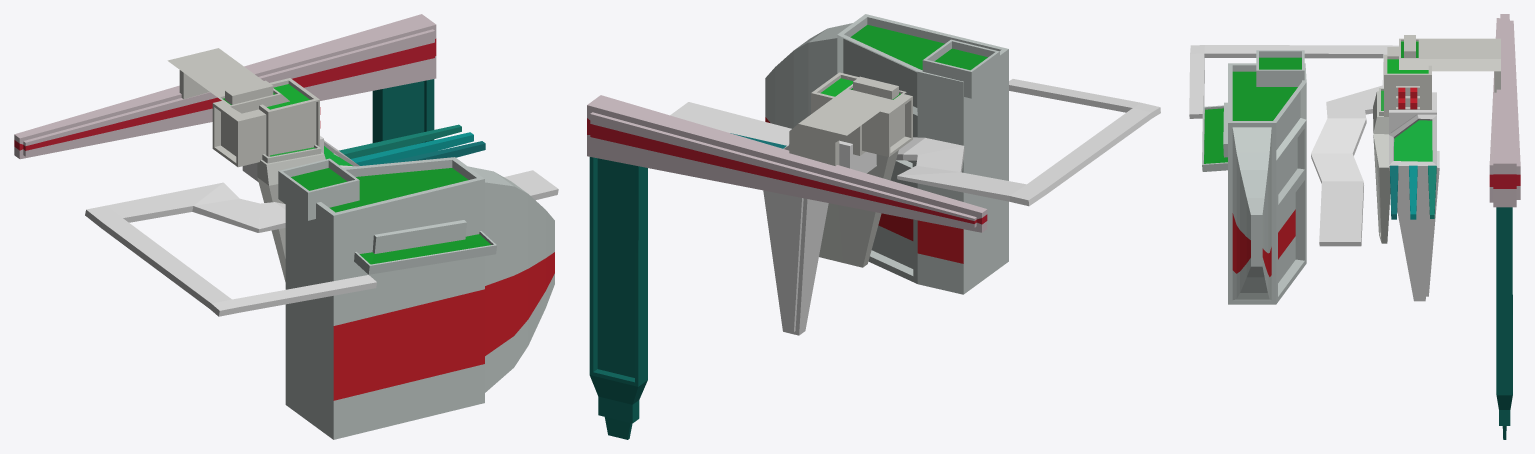
File: Module6_color.fbx
The picture shows the model from 3 angles, left to right: view 1: azimuth 30°, elevation 25°; view 2: azimuth 150°, elevation 25°; view 3: azimuth 270°, elevation 25°; orthographic projection. The views are drawn at different scales.
Visible parts, largest first — view 1: Cube.009, Cube.008, Cube.012, Cube, Cube.007, Cube.011, Cube.010, Cube.005, Cube.006, Cube.004; view 2: Cube.009, Cube.008, Cube.011, Cube.012, Cube.003, Cube.007, Cube, Cube.010, Cube.001; view 3: Cube.009, Cube.012, Cube.008, Cube.003, Cube.011, Cube.007, Cube, Cube.002, Cube.010, Cube.001, Cube.005, Cube.004 (+1 smaller).
Boxes of the visible parts, x1,y1,x2,y2 form: Cube.009: (278, 157, 554, 439); Cube.008: (14, 14, 436, 159); Cube.012: (85, 170, 558, 316); Cube: (212, 78, 320, 167); Cube.007: (167, 48, 289, 113); Cube.011: (372, 79, 434, 144); Cube.010: (257, 144, 325, 281); Cube.005: (350, 132, 473, 165); Cube.006: (339, 124, 461, 158); Cube.004: (379, 141, 485, 164); Cube.009: (765, 14, 1008, 294); Cube.008: (587, 95, 987, 232); Cube.011: (589, 157, 647, 439); Cube.012: (670, 79, 1160, 206); Cube.003: (763, 190, 828, 335); Cube.007: (789, 76, 906, 165); Cube: (811, 72, 912, 156); Cube.010: (819, 150, 898, 267); Cube.001: (839, 140, 876, 173); Cube.009: (1202, 50, 1306, 304); Cube.012: (1189, 45, 1398, 246); Cube.008: (1489, 14, 1520, 207); Cube.003: (1389, 151, 1439, 301); Cube.011: (1496, 207, 1512, 439); Cube.007: (1399, 35, 1500, 92); Cube: (1384, 47, 1431, 116); Cube.002: (1389, 114, 1436, 165); Cube.010: (1373, 88, 1390, 243); Cube.001: (1389, 92, 1436, 134); Cube.005: (1409, 165, 1417, 219); Cube.004: (1390, 165, 1398, 219).
Bounding box in the file's own units: 1658 × 1415 × 1376.
